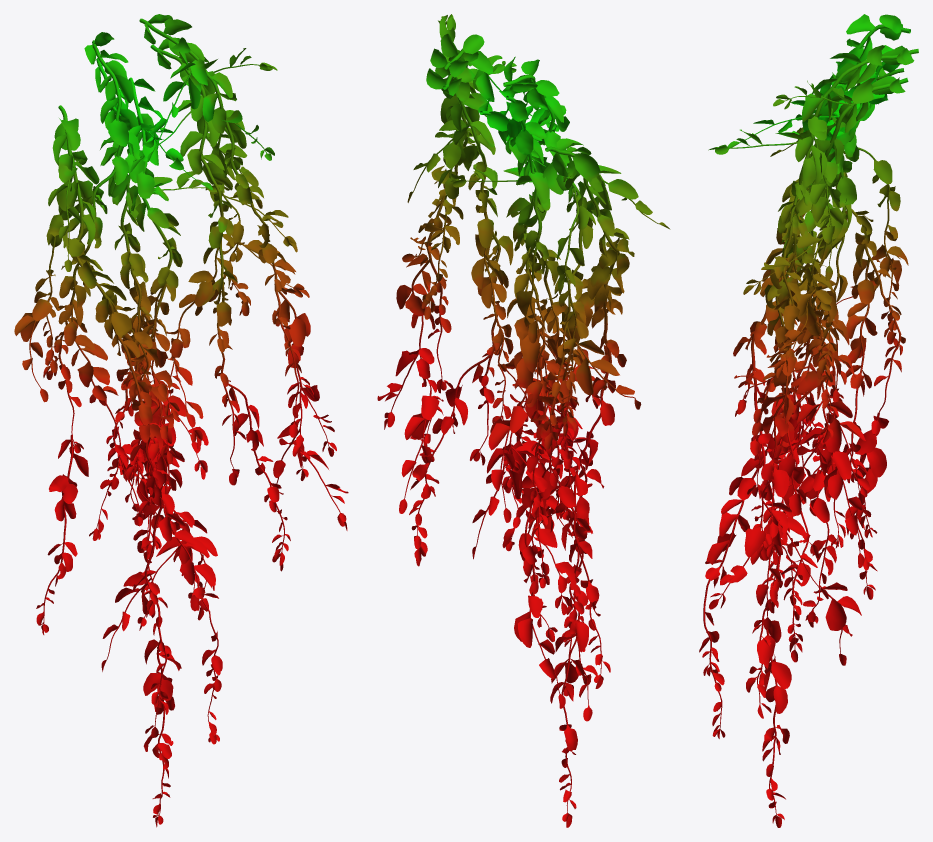
Rendered from DroppingplantVar3_LOD0.fbx.
The picture shows the model from 3 angles, left to right: view 1: azimuth 30°, elevation 25°; view 2: azimuth 150°, elevation 25°; view 3: azimuth 270°, elevation 25°; orthographic projection. The views are drawn at different scales.
Visible parts, largest first — view 1: _wyh8_Var3_LOD0; view 2: _wyh8_Var3_LOD0; view 3: _wyh8_Var3_LOD0.
Boxes of the visible parts, x1,y1,x2,y2 form: _wyh8_Var3_LOD0: (14, 14, 348, 827); _wyh8_Var3_LOD0: (377, 14, 670, 827); _wyh8_Var3_LOD0: (699, 14, 918, 827).
Bounding box in the file's own units: 74.74 × 198 × 48.39.
